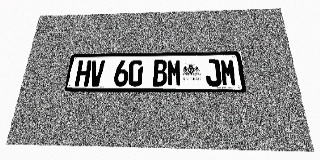0: (128, 60, 143, 86)
6: (113, 60, 129, 86)
B: (152, 60, 167, 86)
H: (74, 61, 92, 86)
J: (205, 59, 222, 86)
M: (220, 59, 237, 86), (167, 60, 182, 86)
V: (89, 60, 105, 86)
